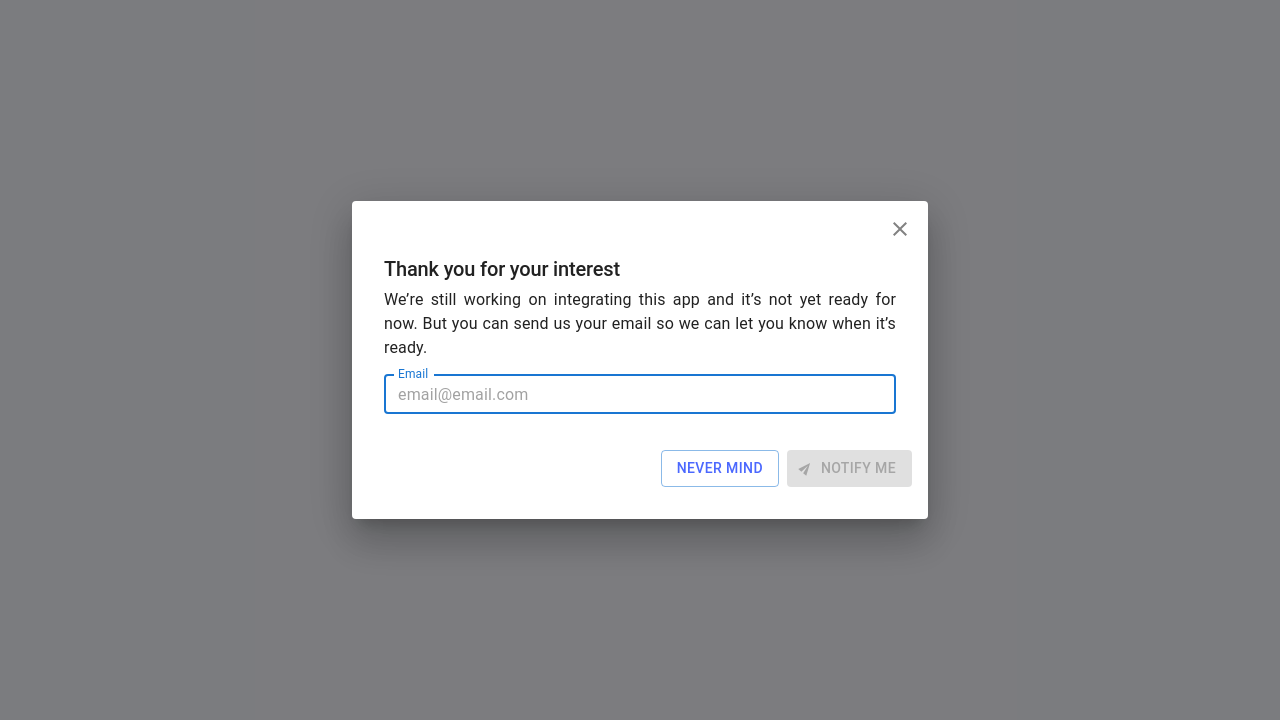
<NotifyEmailDialog /> › should disable notify me button for empty textfield
The width and height of the screenshot is (1280, 720).
Type "name@email.com" into the field labelled "Email" at (640, 394), box x1=384 y1=374 x2=896 y2=414
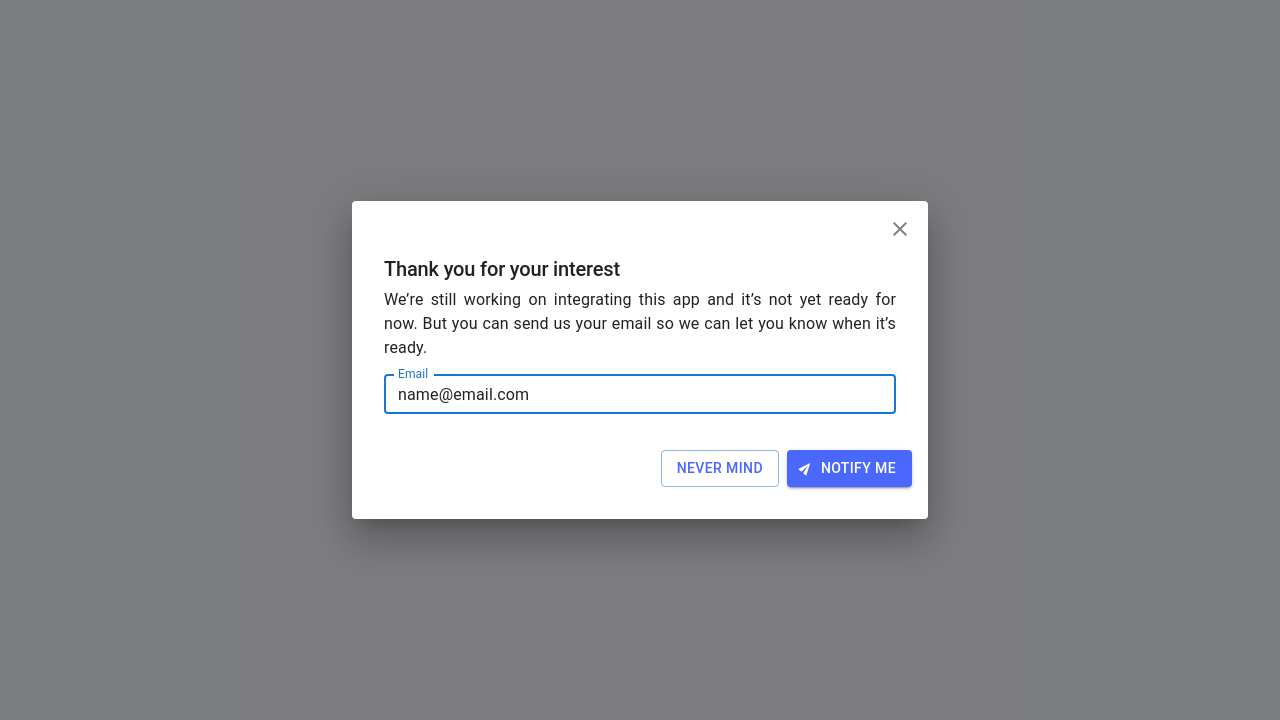
Now the button "Notify me" is enabled, box x1=787 y1=450 x2=912 y2=486
Clear the field labelled "Email" at (640, 394), box x1=384 y1=374 x2=896 y2=414
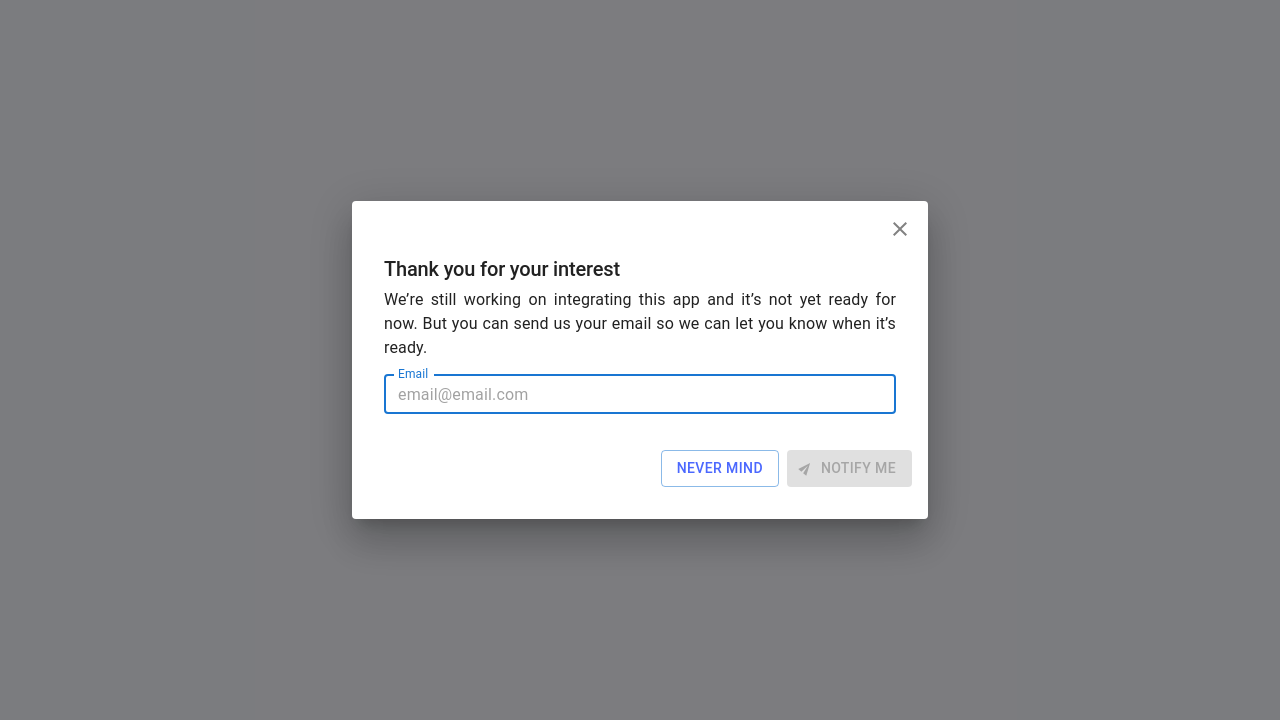
Now the button "Notify me" is disabled, box x1=787 y1=450 x2=912 y2=486
